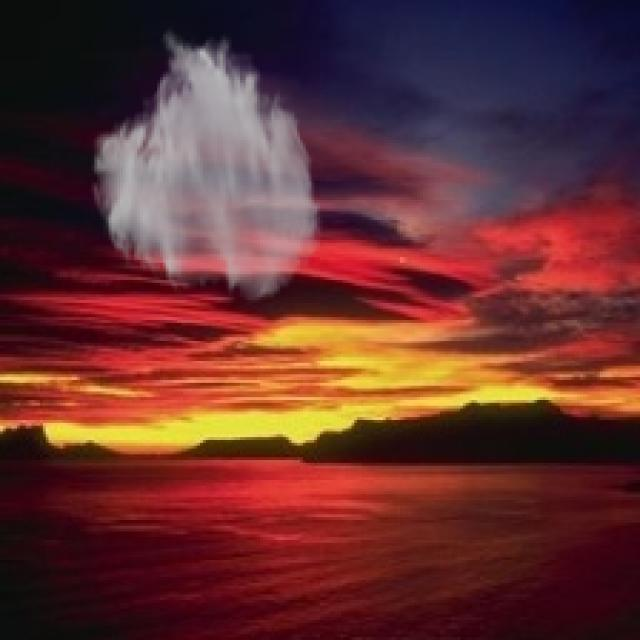Smoke: (88, 26, 323, 306)
